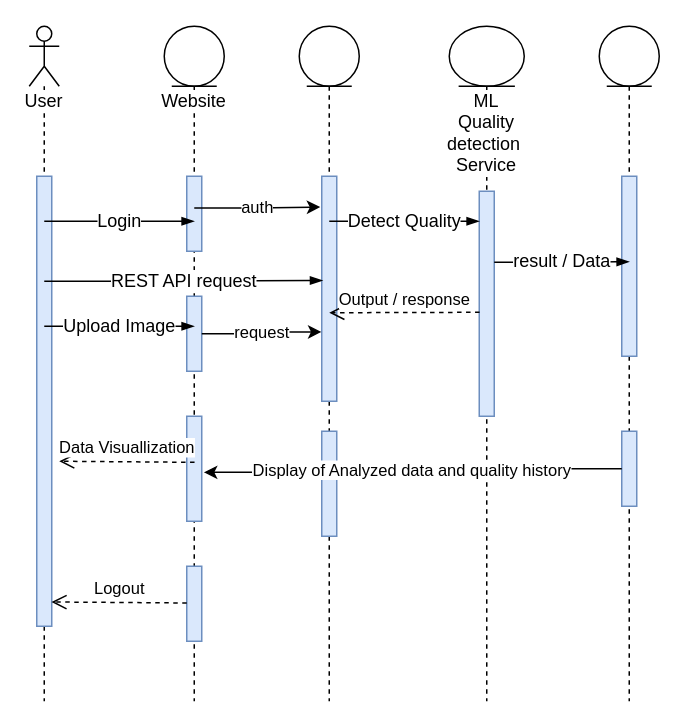
Some shapes in this 692 by 728 pixel diagram are drawn without their labels. The shapes that lost their labels are listed below. From the top down, each one's box as (x1, y1, x2, y2) in pixels, then its label:
(298, 25, 359, 701): Sever
(598, 25, 659, 701): Data Analysis
